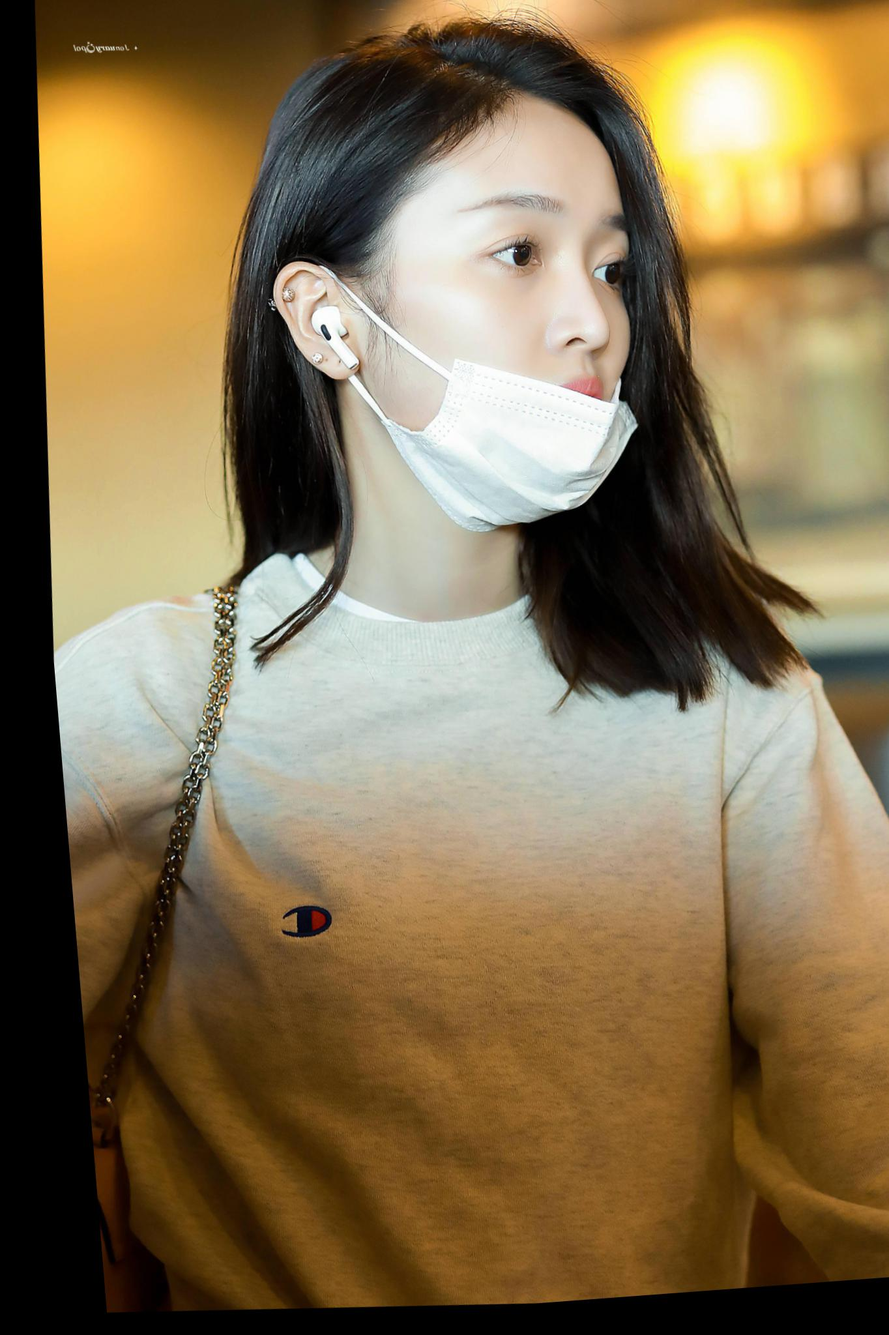WRONG: (390, 156, 652, 544)
